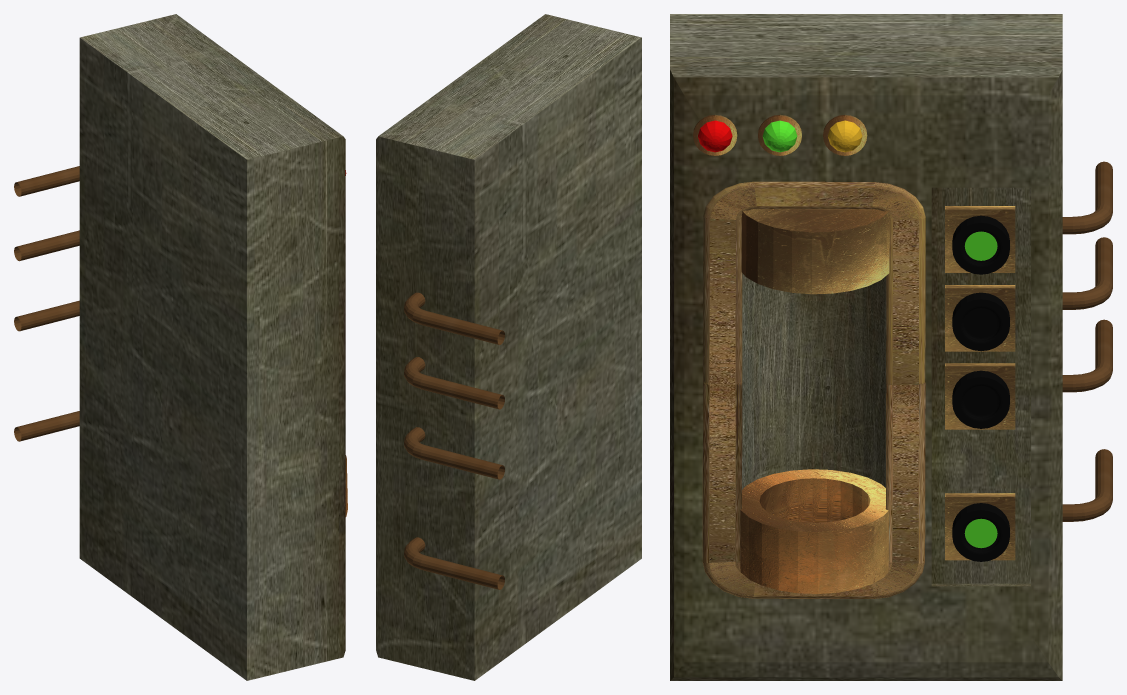
File: ZAMOK.fbx
3 renders of one model, left to right at view 1: azimuth 30°, elevation 25°; view 2: azimuth 150°, elevation 25°; view 3: azimuth 270°, elevation 25°, orthographic. The views are drawn at different scales.
Parts seen in each view (by area): view 1: Cube, Plane.002, Plane.001, Plane.003, Plane.004; view 2: Cube, Plane.004, Plane.001, Plane.003, Plane.002; view 3: Cube, Cylinder.112, Cylinder.114, Cylinder.119, Cylinder.113, Cylinder.115, Cube.016, Cube.008, Cube.003, Cube.015, Plane.001, Plane.002 (+8 smaller).
Boxes of the visible parts, x1=… form: Cube: x1=79, y1=14, x2=345, y2=680; Plane.002: x1=14, y1=300, x2=79, y2=331; Plane.001: x1=14, y1=230, x2=79, y2=261; Plane.003: x1=14, y1=166, x2=79, y2=196; Plane.004: x1=14, y1=411, x2=79, y2=441; Cube: x1=376, y1=14, x2=641, y2=680; Plane.004: x1=404, y1=537, x2=504, y2=589; Plane.001: x1=404, y1=357, x2=504, y2=409; Plane.003: x1=404, y1=292, x2=504, y2=344; Plane.002: x1=404, y1=427, x2=504, y2=479; Cube: x1=670, y1=14, x2=1062, y2=680; Cylinder.112: x1=702, y1=181, x2=925, y2=598; Cylinder.114: x1=952, y1=215, x2=1009, y2=274; Cylinder.119: x1=952, y1=503, x2=1009, y2=561; Cylinder.113: x1=952, y1=292, x2=1009, y2=351; Cylinder.115: x1=952, y1=370, x2=1009, y2=428; Cube.016: x1=945, y1=493, x2=1015, y2=560; Cube.008: x1=945, y1=363, x2=1015, y2=429; Cube.003: x1=945, y1=285, x2=1015, y2=351; Cube.015: x1=945, y1=206, x2=1015, y2=272; Plane.001: x1=1062, y1=237, x2=1112, y2=309; Plane.002: x1=1062, y1=319, x2=1112, y2=392.
Bounding box in the file's own units: 79.57 × 200 × 131.
Materials: 10 (5 with a texture image).
